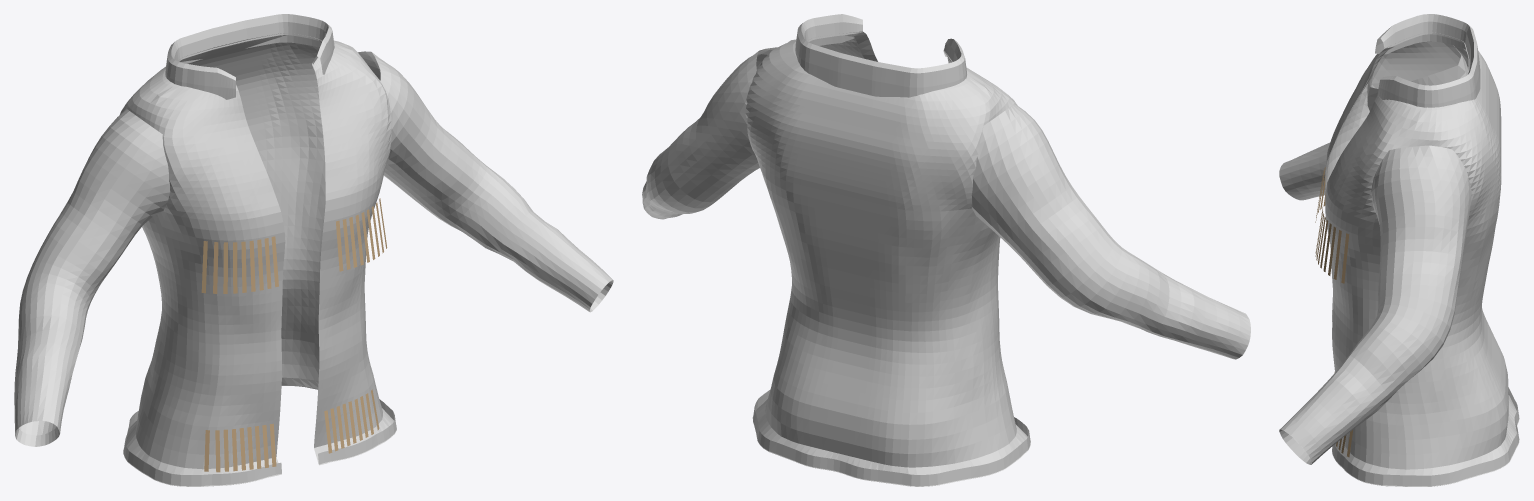
Rendered from ewb_fringe.glb.
The picture shows the model from 3 angles, left to right: view 1: azimuth 30°, elevation 25°; view 2: azimuth 150°, elevation 25°; view 3: azimuth 270°, elevation 25°; orthographic projection. The views are drawn at different scales.
Parts seen in each view (by area): view 1: ewb_fringe; view 2: ewb_fringe; view 3: ewb_fringe.
Boxes of the visible parts, x1,y1,x2,y2 form: ewb_fringe: (14,14,613,486); ewb_fringe: (642,14,1250,486); ewb_fringe: (1279,14,1519,486).
Size of the model in its own units: 1.11 by 0.702 by 0.4013.
